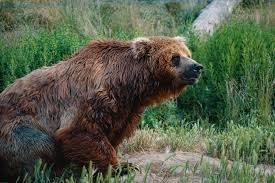bear: (0, 36, 202, 181)
